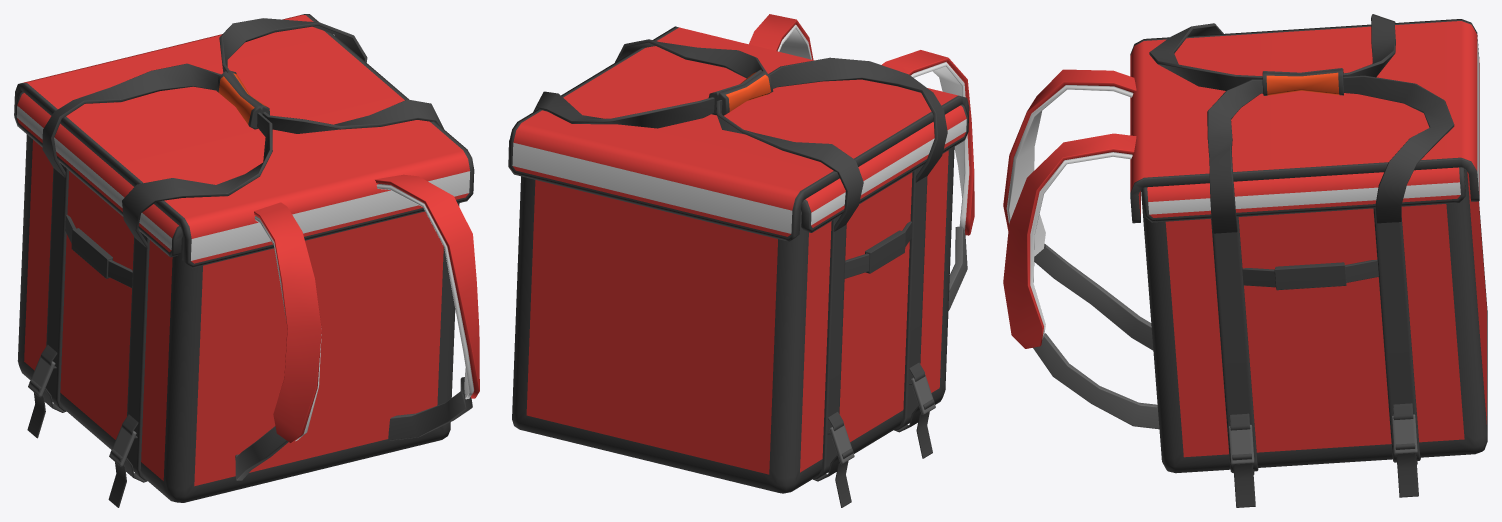
File: Backpack_017.glb
3 views of the same model, side by side, from view 1: azimuth 30°, elevation 25°; view 2: azimuth 150°, elevation 25°; view 3: azimuth 270°, elevation 25° (orthographic).
Parts seen in each view (by area): view 1: Backpack_017; view 2: Backpack_017; view 3: Backpack_017.
Part boxes in pixels (<box>): Backpack_017: <box>14,14,479,507</box>; Backpack_017: <box>508,14,974,507</box>; Backpack_017: <box>1003,14,1487,507</box>.
Size of the model in its own units: 0.7538 by 0.8067 by 0.9786.
Materials: 1 (1 with a texture image).
